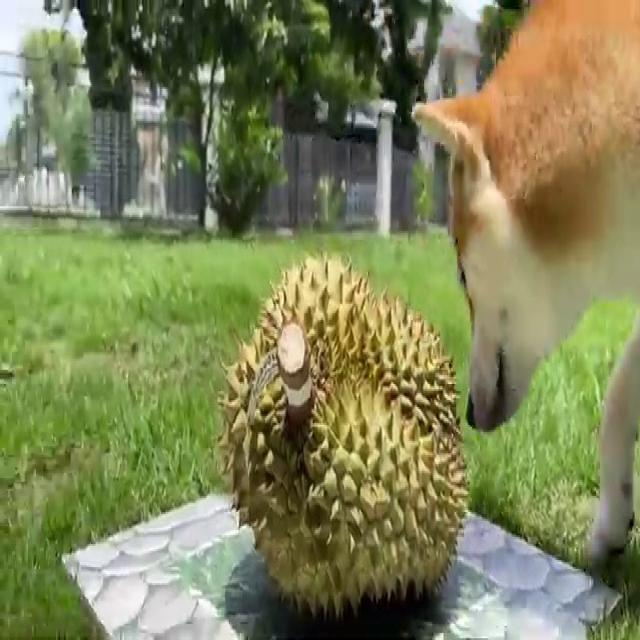durian: (216, 245, 472, 622)
